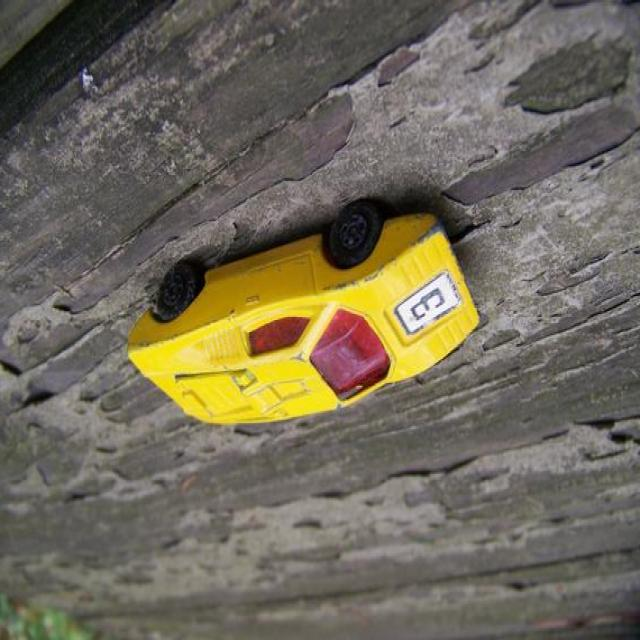Car: (127, 199, 480, 428)
